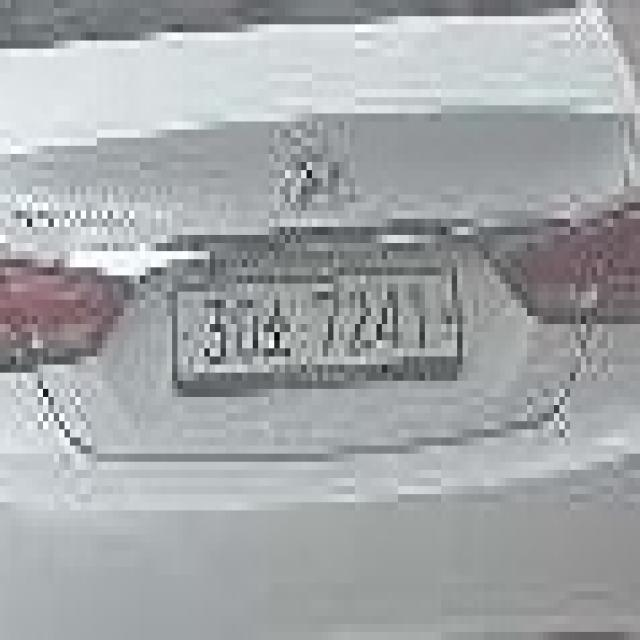0: (226, 292, 263, 364)
1: (408, 276, 436, 356)
2: (344, 276, 377, 356)
3: (199, 292, 226, 372)
4: (376, 284, 404, 356)
7: (312, 284, 339, 356)
license_plate: (172, 267, 468, 381)
so: (263, 292, 296, 364)
